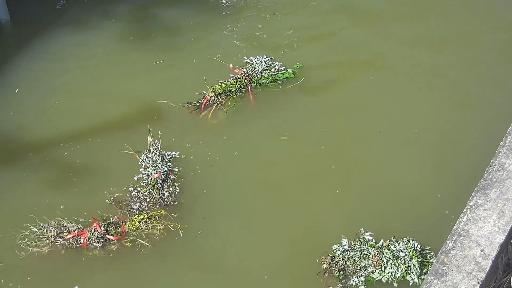twig: (174, 47, 310, 120), (9, 205, 190, 256), (318, 221, 442, 288), (119, 125, 179, 211)
